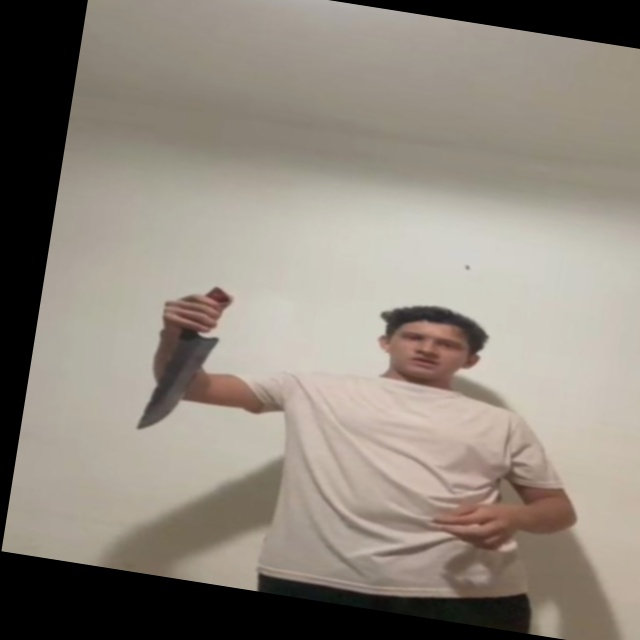Sharp-Object: (133, 324, 223, 438)
